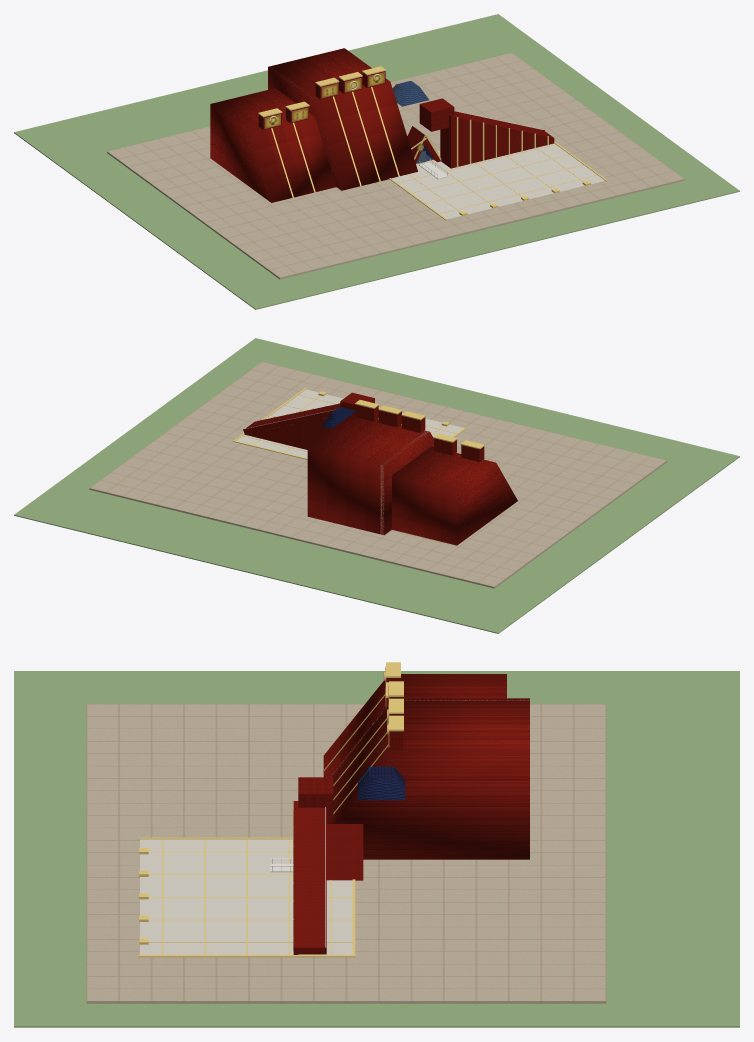
File: museo_sipan.glb
The picture shows the model from 3 angles, top to bottom: view 1: azimuth 30°, elevation 25°; view 2: azimuth 150°, elevation 25°; view 3: azimuth 270°, elevation 25°; orthographic projection. The views are drawn at different scales.
Parts seen in each view (by area): view 1: Base_Plaza, Cuerpo_Central_Talud, Ala_Izquierda_Talud, Rampa_Monumental_Lateral, Frisos_Superiores_Oro, Edificio_Principal, Pabellon_Entrada_Triangular; view 2: Base_Plaza, Cuerpo_Central_Talud, Ala_Izquierda_Talud, Rampa_Monumental_Lateral, Frisos_Superiores_Oro; view 3: Base_Plaza, Cuerpo_Central_Talud, Rampa_Monumental_Lateral, Ala_Izquierda_Talud, Pabellon_Entrada_Triangular, Edificio_Principal, Frisos_Superiores_Oro.
Boxes of the visible parts, x1,y1,x2,y2 form: Base_Plaza: (14,14,739,309); Cuerpo_Central_Talud: (268,48,417,190); Ala_Izquierda_Talud: (210,88,336,202); Rampa_Monumental_Lateral: (419,98,554,168); Frisos_Superiores_Oro: (258,66,385,129); Edificio_Principal: (271,81,429,197); Pabellon_Entrada_Triangular: (407,126,448,179); Base_Plaza: (14,338,739,633); Cuerpo_Central_Talud: (307,413,433,534); Ala_Izquierda_Talud: (392,446,517,545); Rampa_Monumental_Lateral: (243,392,374,449); Frisos_Superiores_Oro: (355,400,484,461); Base_Plaza: (14,671,739,1027); Cuerpo_Central_Talud: (326,698,529,859); Rampa_Monumental_Lateral: (293,777,333,954); Ala_Izquierda_Talud: (323,674,506,777); Pabellon_Entrada_Triangular: (270,824,363,880); Edificio_Principal: (323,694,405,814); Frisos_Superiores_Oro: (383,662,403,750).
Size of the model in its own units: 110 by 18.77 by 95.
17 materials, 9 textured.
